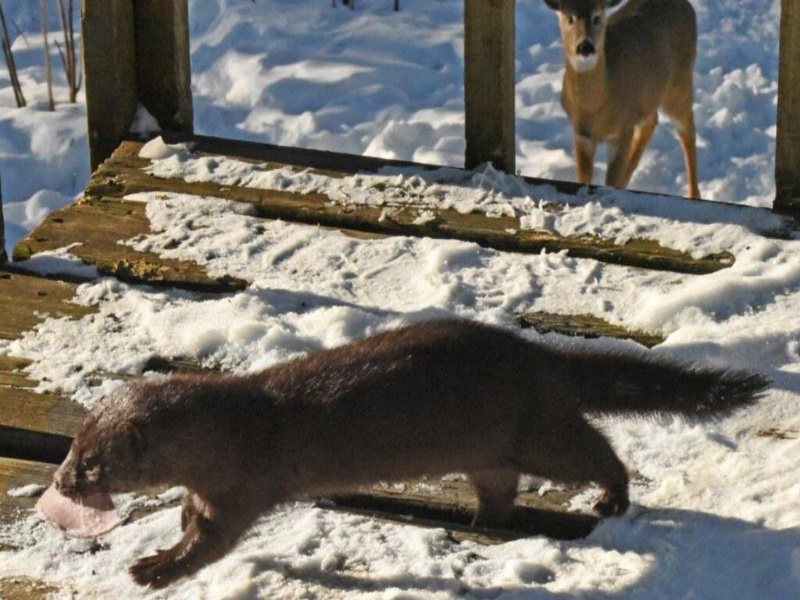minkish: (51, 313, 777, 594)
